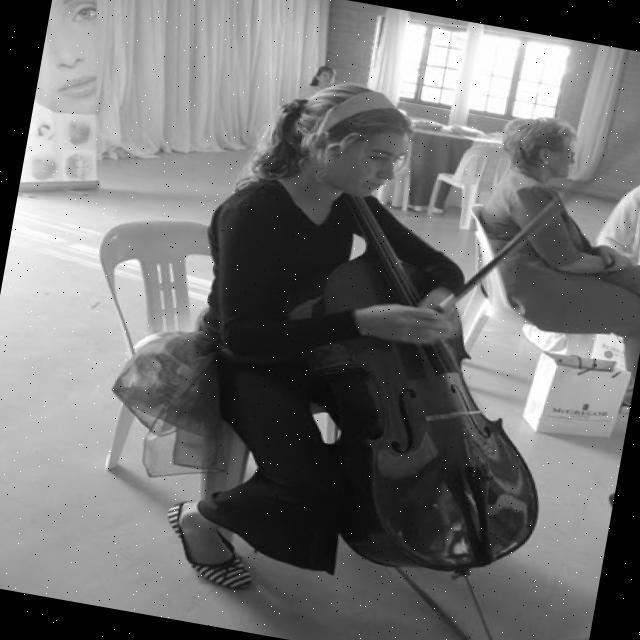cello: (264, 180, 594, 598)
